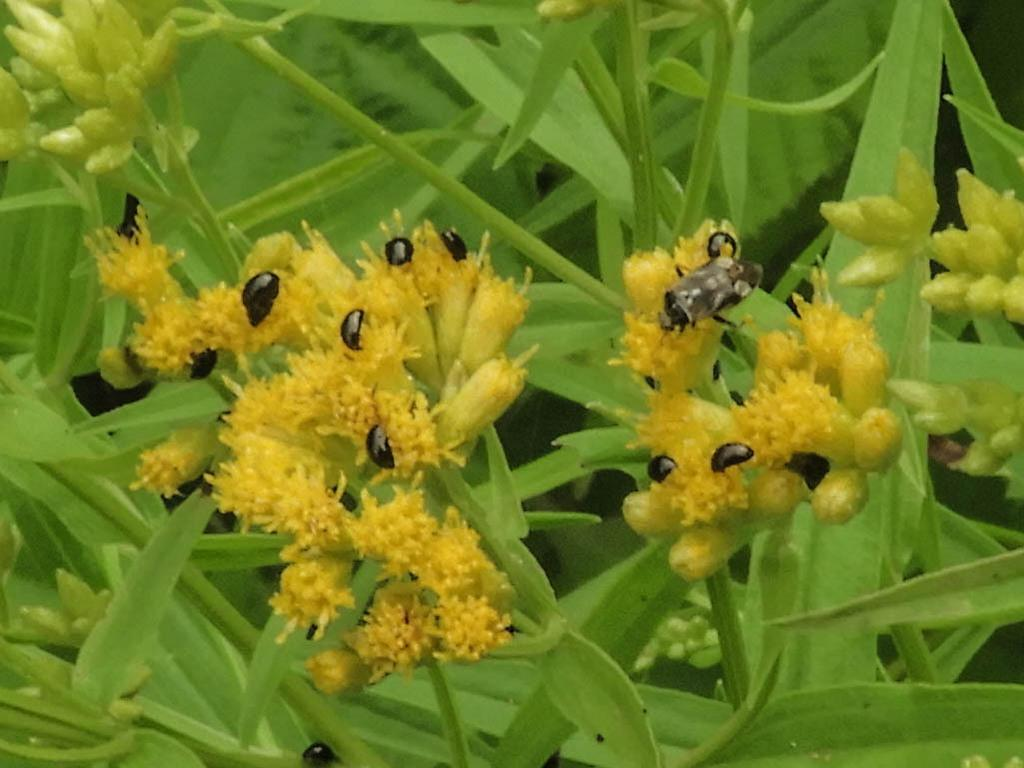plant_bugs: (636, 229, 780, 354)
